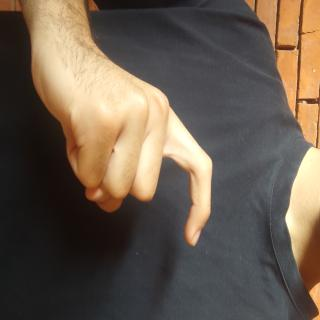RAA: (12, 133, 192, 320)
